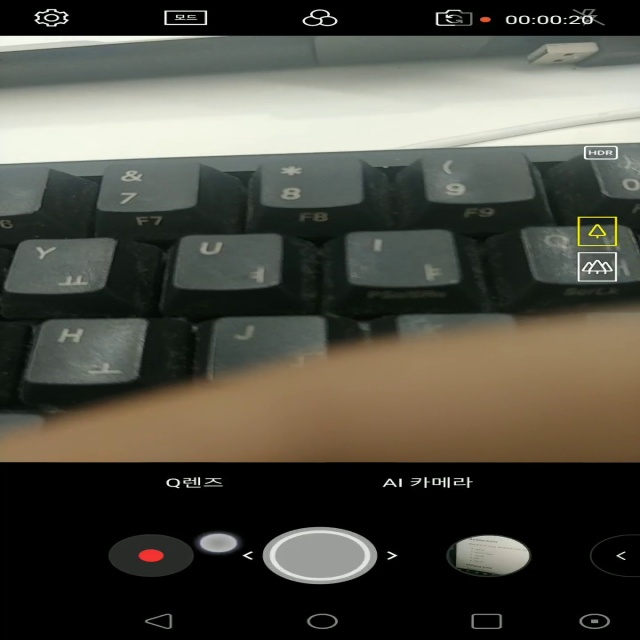Cursor: (197, 532, 241, 555)
